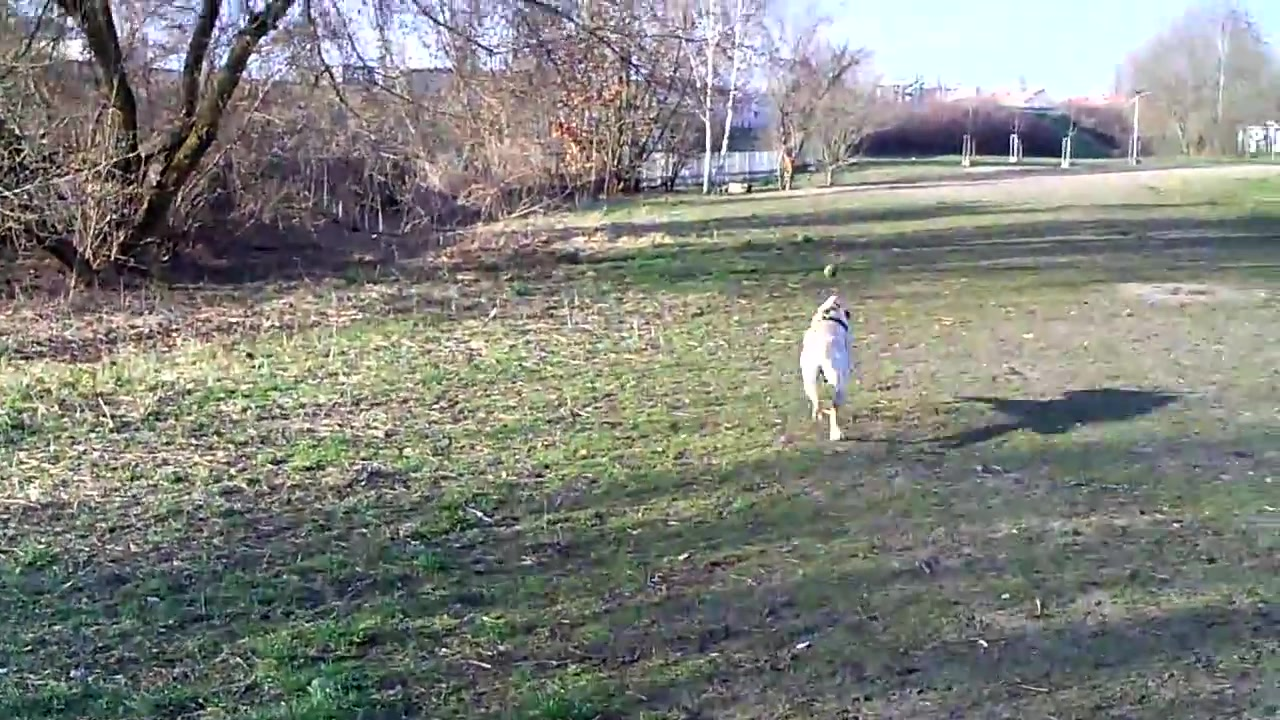dog: (797, 293, 857, 442)
